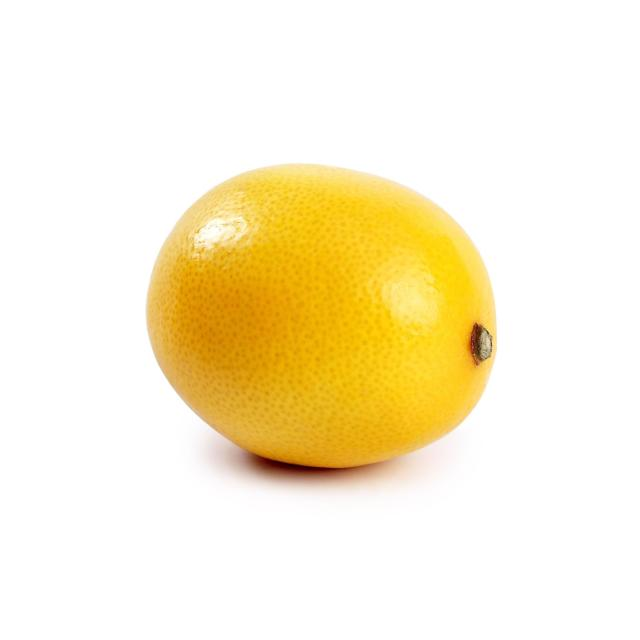lemon: (138, 158, 504, 477)
